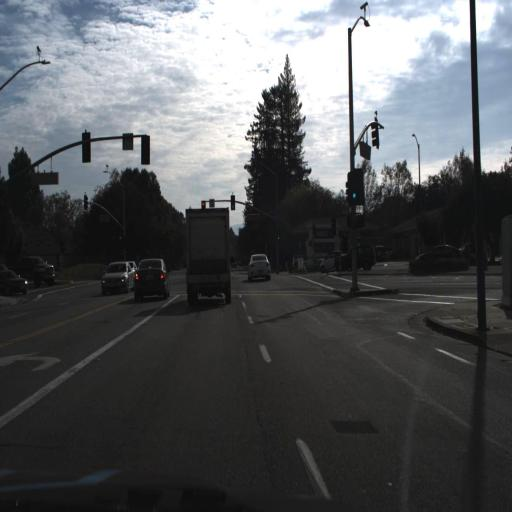car: (404, 240, 463, 276), (133, 251, 169, 303), (16, 250, 57, 288), (95, 259, 135, 294), (335, 242, 376, 276), (246, 248, 272, 283), (318, 249, 343, 275)
trafficLight-Green: (349, 167, 365, 203)
truck: (182, 205, 233, 316)
